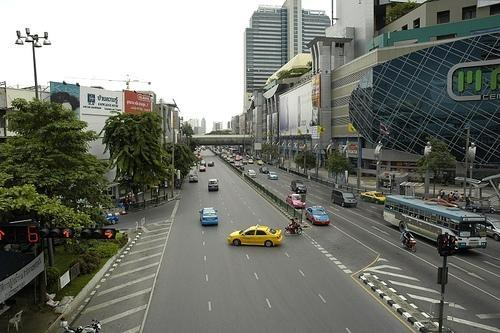bus: (382, 192, 489, 251)
car: (226, 225, 284, 246), (305, 207, 331, 225), (330, 190, 356, 206), (199, 206, 219, 226), (360, 191, 385, 205), (286, 194, 306, 210), (290, 180, 308, 193), (208, 178, 218, 190), (189, 174, 199, 183), (266, 172, 278, 179), (247, 170, 257, 177), (207, 160, 215, 166), (200, 166, 206, 172)
motorcycle: (400, 238, 416, 252), (284, 225, 302, 237)
